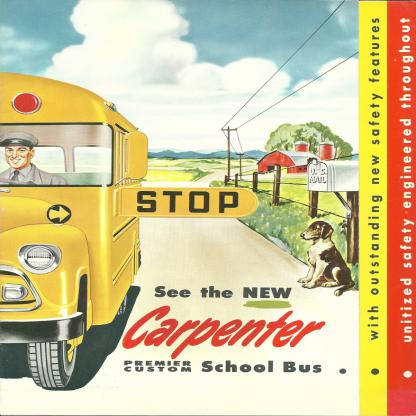Bus: (0, 71, 150, 387)
